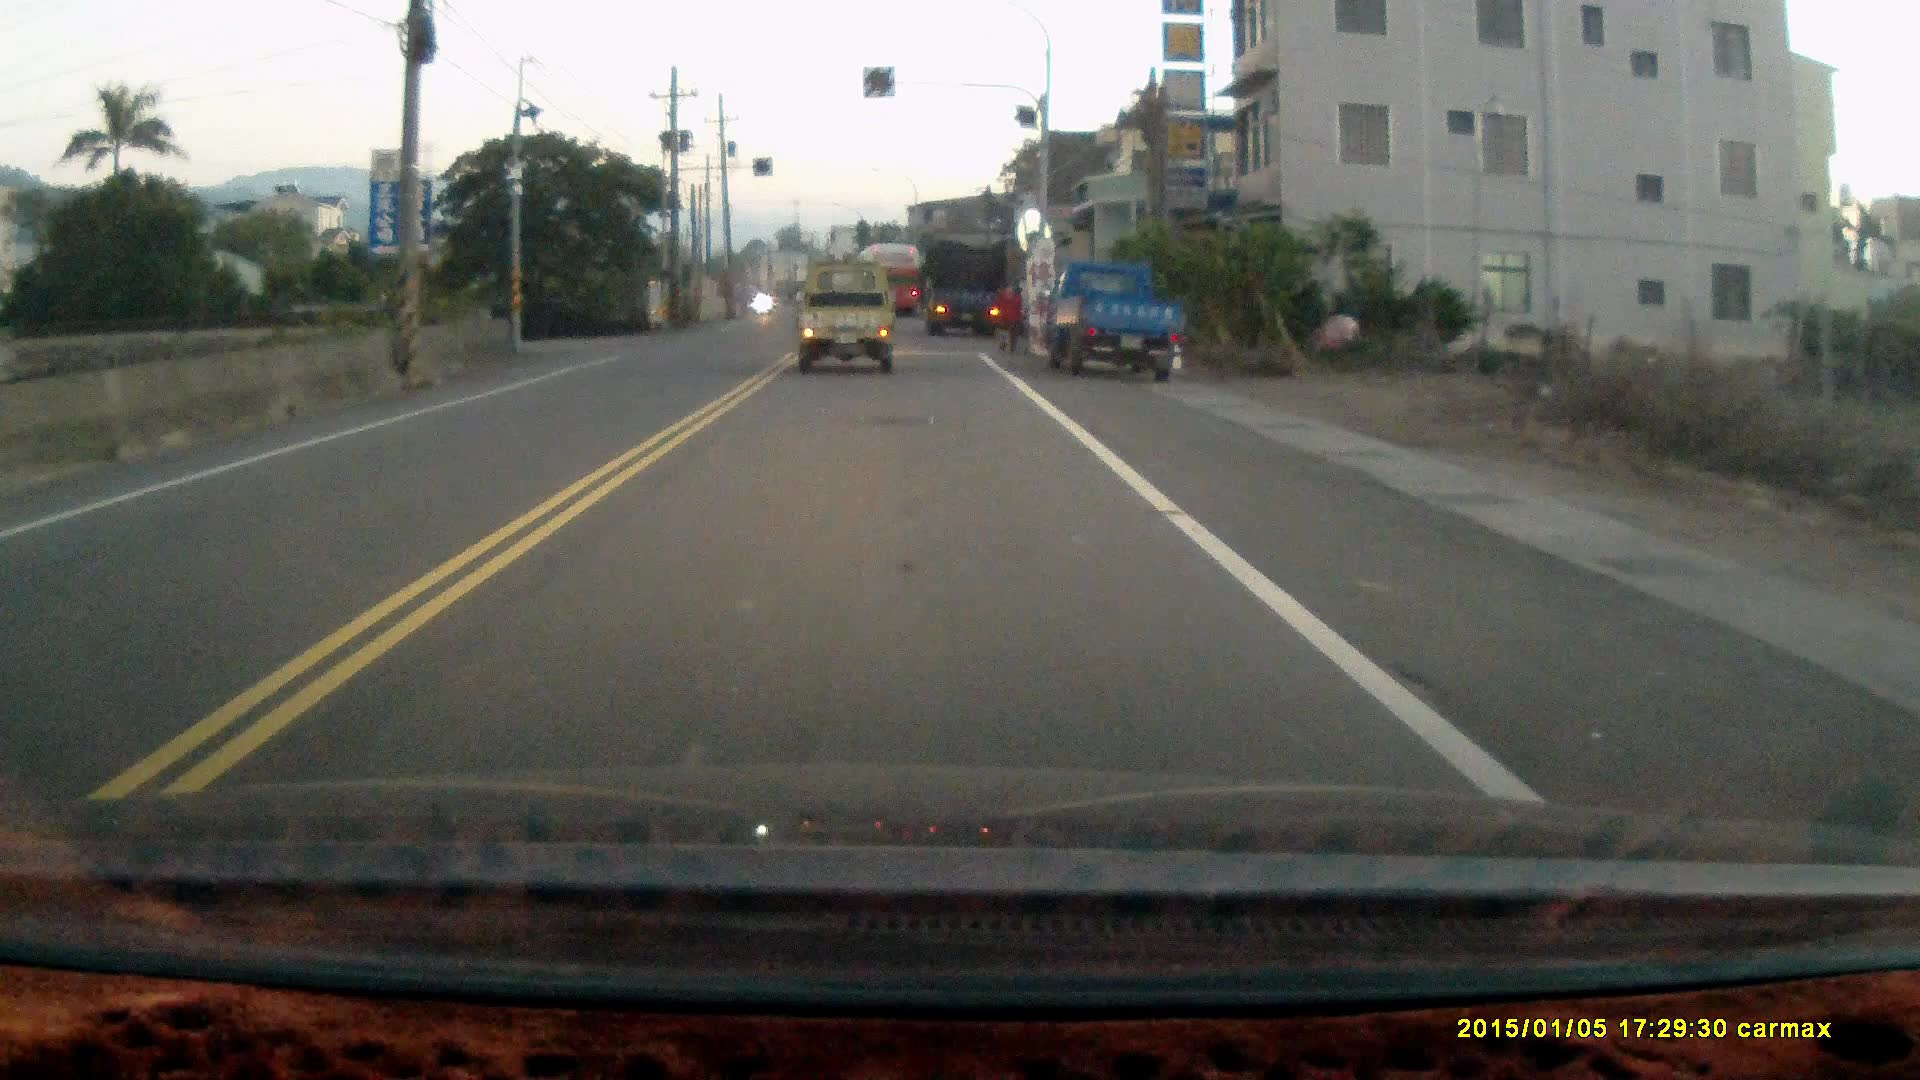pedestrian: (990, 277, 1023, 356)
vehicle: (1041, 259, 1190, 385), (799, 272, 903, 382), (925, 240, 1009, 329)
